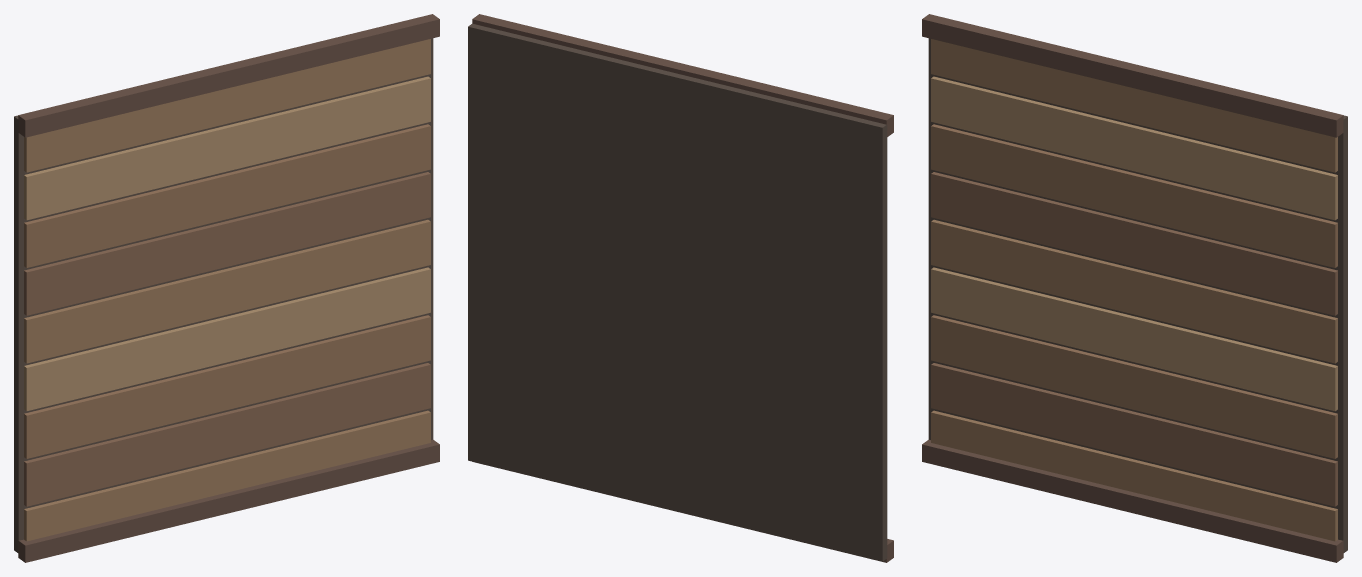
File: floor_wood_plank_tile_2x2.glb
3 views of the same model, side by side, from view 1: azimuth 30°, elevation 25°; view 2: azimuth 150°, elevation 25°; view 3: azimuth 330°, elevation 25° (orthographic).
Visible parts, largest first — view 1: floor_wood_plank_tile_2x2_005, floor_wood_plank_tile_2x2_003, floor_wood_plank_tile_2x2_004, floor_wood_plank_tile_2x2_006, floor_wood_plank_tile_2x2_002, floor_wood_plank_tile_2x2_007, floor_wood_plank_tile_2x2_008, floor_wood_plank_tile_2x2_009, floor_wood_plank_tile_2x2_001, floor_wood_plank_tile_2x2_000, floor_wood_plank_tile_2x2_011, floor_wood_plank_tile_2x2_010; view 2: floor_wood_plank_tile_2x2_000, floor_wood_plank_tile_2x2_011, floor_wood_plank_tile_2x2_010; view 3: floor_wood_plank_tile_2x2_005, floor_wood_plank_tile_2x2_003, floor_wood_plank_tile_2x2_004, floor_wood_plank_tile_2x2_006, floor_wood_plank_tile_2x2_002, floor_wood_plank_tile_2x2_007, floor_wood_plank_tile_2x2_008, floor_wood_plank_tile_2x2_009, floor_wood_plank_tile_2x2_001, floor_wood_plank_tile_2x2_000, floor_wood_plank_tile_2x2_011, floor_wood_plank_tile_2x2_010.
Part boxes in pixels (left/top/right/bottom): floor_wood_plank_tile_2x2_005: left=24, top=219, right=430, bottom=363; floor_wood_plank_tile_2x2_003: left=24, top=315, right=430, bottom=458; floor_wood_plank_tile_2x2_004: left=24, top=267, right=430, bottom=411; floor_wood_plank_tile_2x2_006: left=24, top=172, right=430, bottom=315; floor_wood_plank_tile_2x2_002: left=24, top=363, right=430, bottom=506; floor_wood_plank_tile_2x2_007: left=24, top=124, right=430, bottom=267; floor_wood_plank_tile_2x2_008: left=24, top=76, right=430, bottom=220; floor_wood_plank_tile_2x2_009: left=24, top=39, right=430, bottom=172; floor_wood_plank_tile_2x2_001: left=24, top=410, right=430, bottom=541; floor_wood_plank_tile_2x2_000: left=14, top=38, right=433, bottom=552; floor_wood_plank_tile_2x2_011: left=18, top=14, right=439, bottom=137; floor_wood_plank_tile_2x2_010: left=18, top=439, right=439, bottom=562; floor_wood_plank_tile_2x2_000: left=468, top=23, right=887, bottom=561; floor_wood_plank_tile_2x2_011: left=472, top=14, right=893, bottom=136; floor_wood_plank_tile_2x2_010: left=472, top=461, right=893, bottom=562; floor_wood_plank_tile_2x2_005: left=931, top=219, right=1337, bottom=363; floor_wood_plank_tile_2x2_003: left=931, top=315, right=1337, bottom=458; floor_wood_plank_tile_2x2_004: left=931, top=267, right=1337, bottom=411; floor_wood_plank_tile_2x2_006: left=931, top=172, right=1337, bottom=315; floor_wood_plank_tile_2x2_002: left=931, top=363, right=1337, bottom=506; floor_wood_plank_tile_2x2_007: left=931, top=124, right=1337, bottom=267; floor_wood_plank_tile_2x2_008: left=931, top=76, right=1337, bottom=220; floor_wood_plank_tile_2x2_009: left=931, top=39, right=1337, bottom=172; floor_wood_plank_tile_2x2_001: left=931, top=410, right=1337, bottom=541; floor_wood_plank_tile_2x2_000: left=928, top=38, right=1347, bottom=552; floor_wood_plank_tile_2x2_011: left=922, top=14, right=1343, bottom=137; floor_wood_plank_tile_2x2_010: left=922, top=439, right=1343, bottom=562.
Size of the model in its own units: 2 by 2.04 by 0.095.
